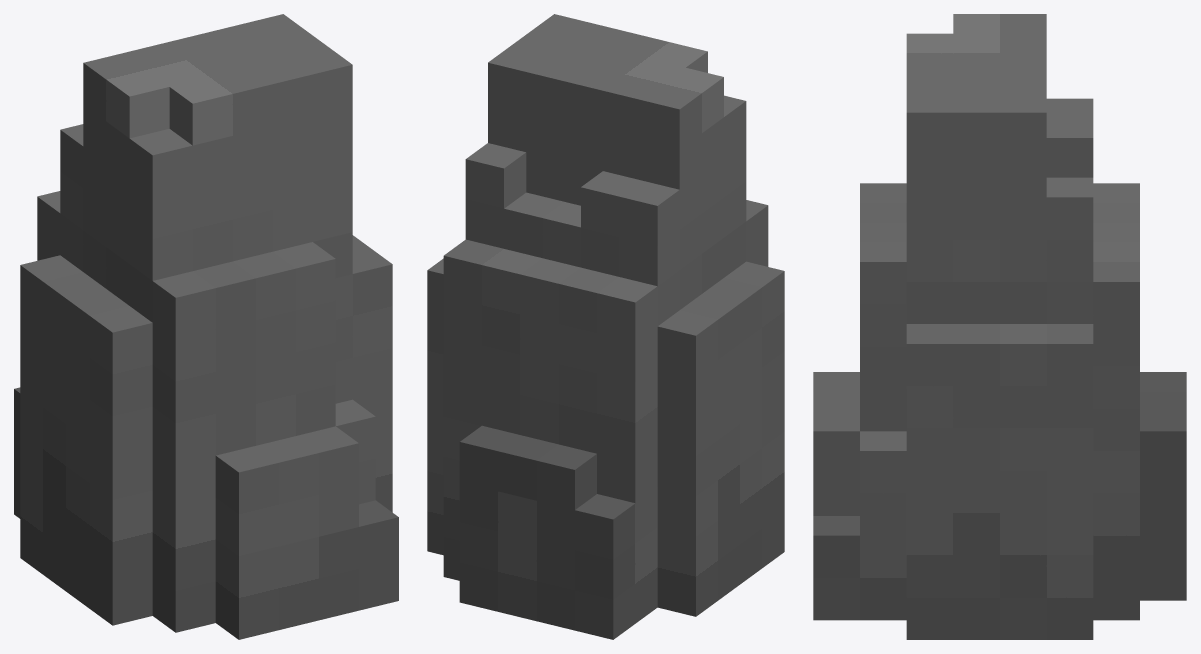
Rendered from rock5.fbx.
3 renders of one model, left to right at view 1: azimuth 30°, elevation 25°; view 2: azimuth 150°, elevation 25°; view 3: azimuth 270°, elevation 25°, orthographic. The views are drawn at different scales.
Parts seen in each view (by area): view 1: rock5; view 2: rock5; view 3: rock5.
Part boxes in pixels (x1,y1,x2,y2): rock5: (14,14,398,639); rock5: (427,14,784,639); rock5: (813,14,1186,639).
Bounding box in the file's own units: 7 × 12 × 8.
1 material, 1 textured.
